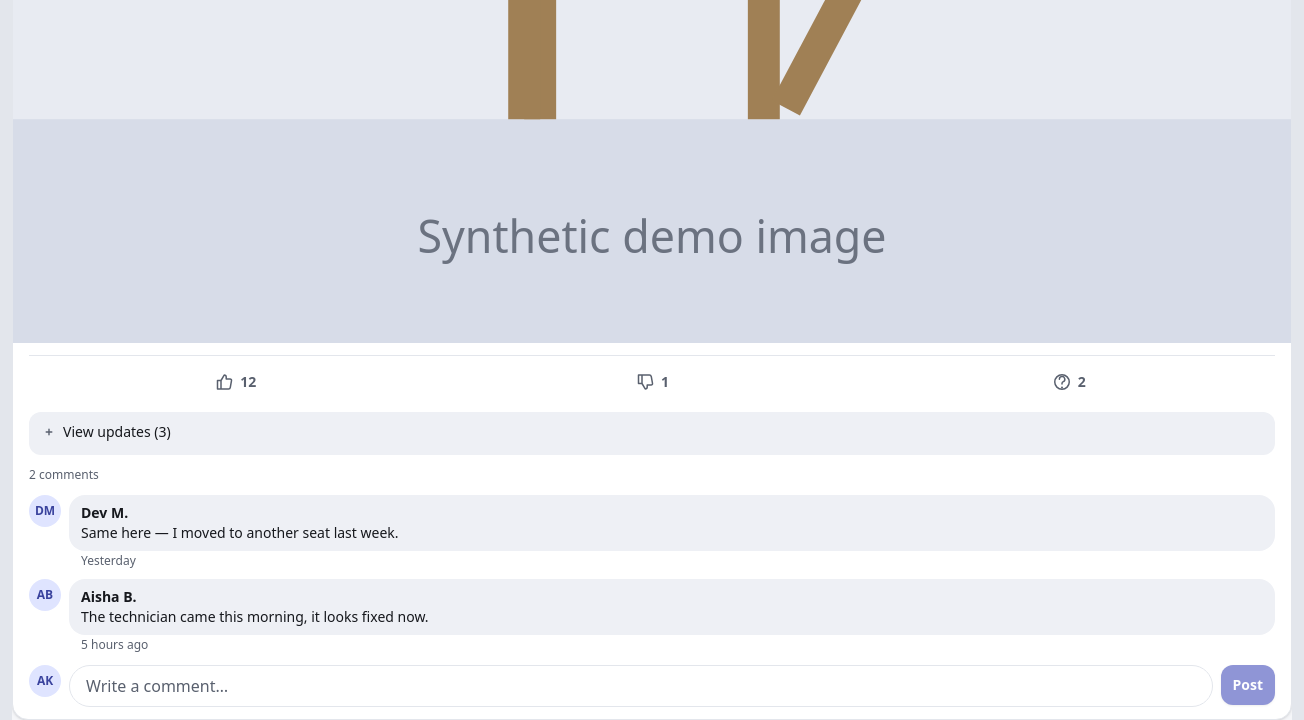
Test case: ReportCard (post) › reactions › removes the reaction when the active one is tapped again
(page scrolled)
Click the button named "Like".
click(235, 382)  # box [29, 360, 442, 404]
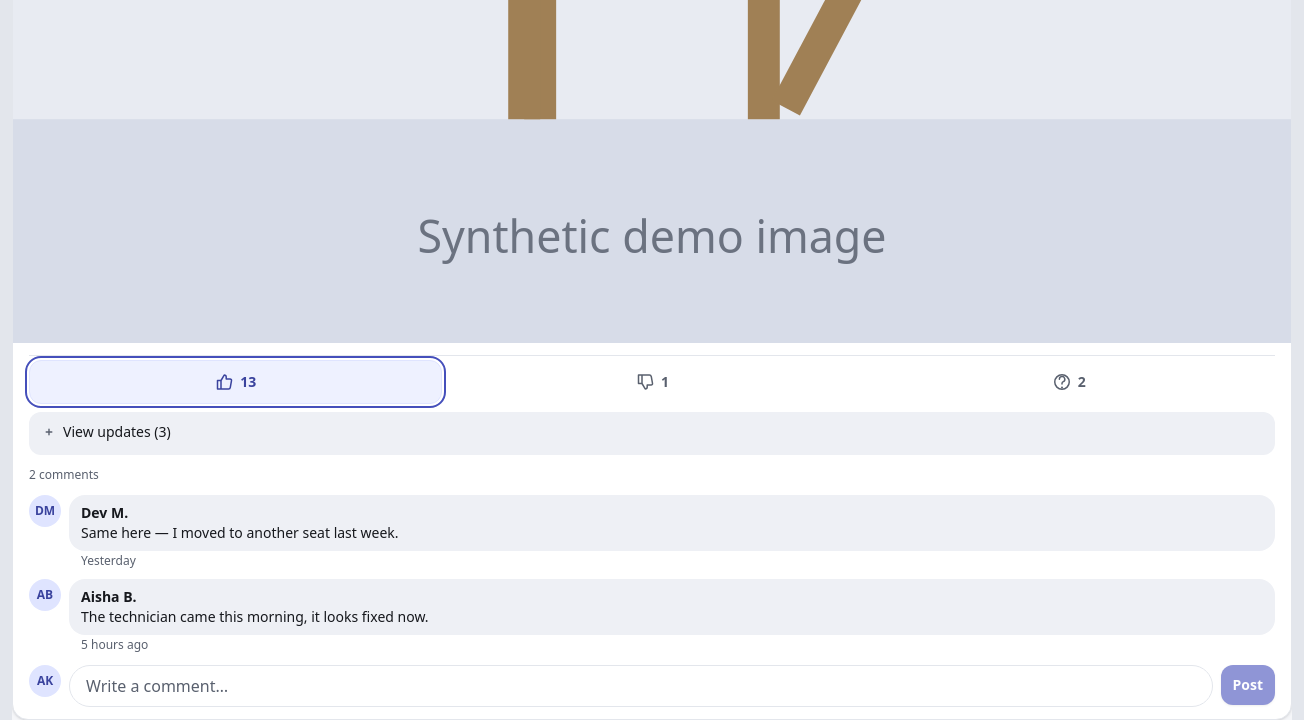
Click the button named "Like".
click(235, 382)  # box [29, 360, 442, 404]
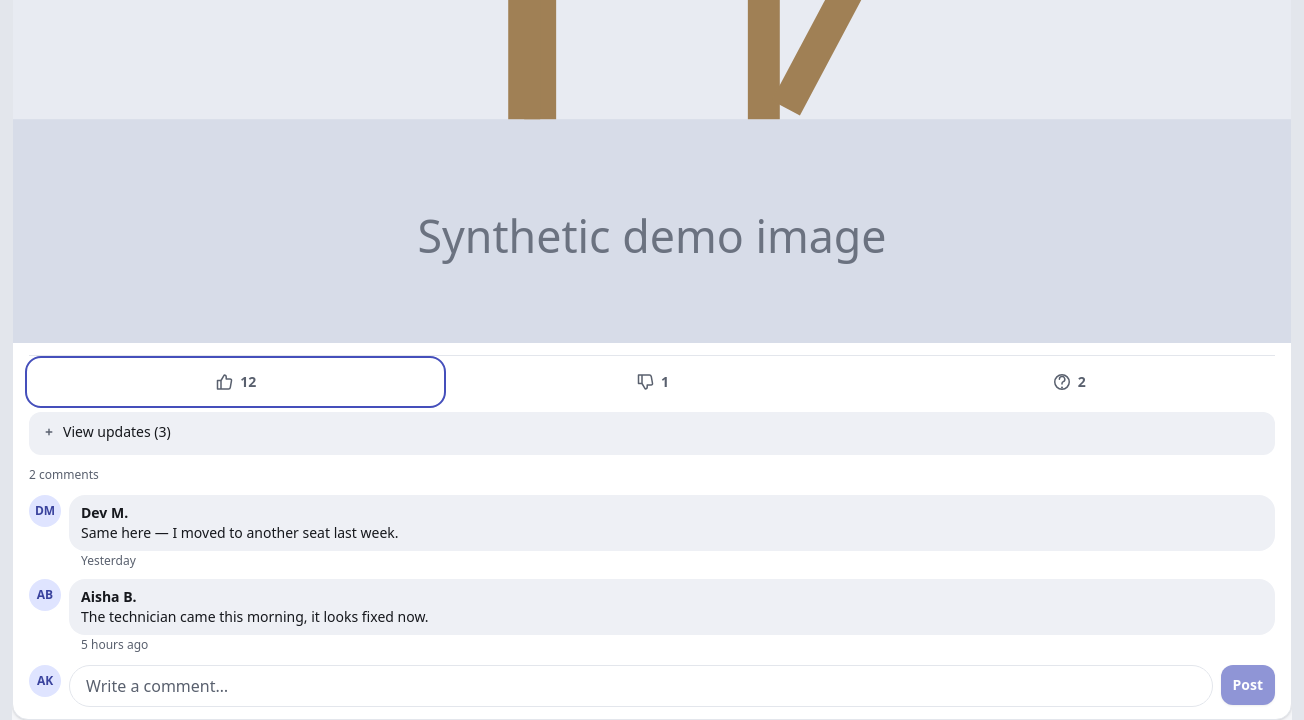
Check: the button named "Like" reads "12", box [29, 360, 442, 404]
